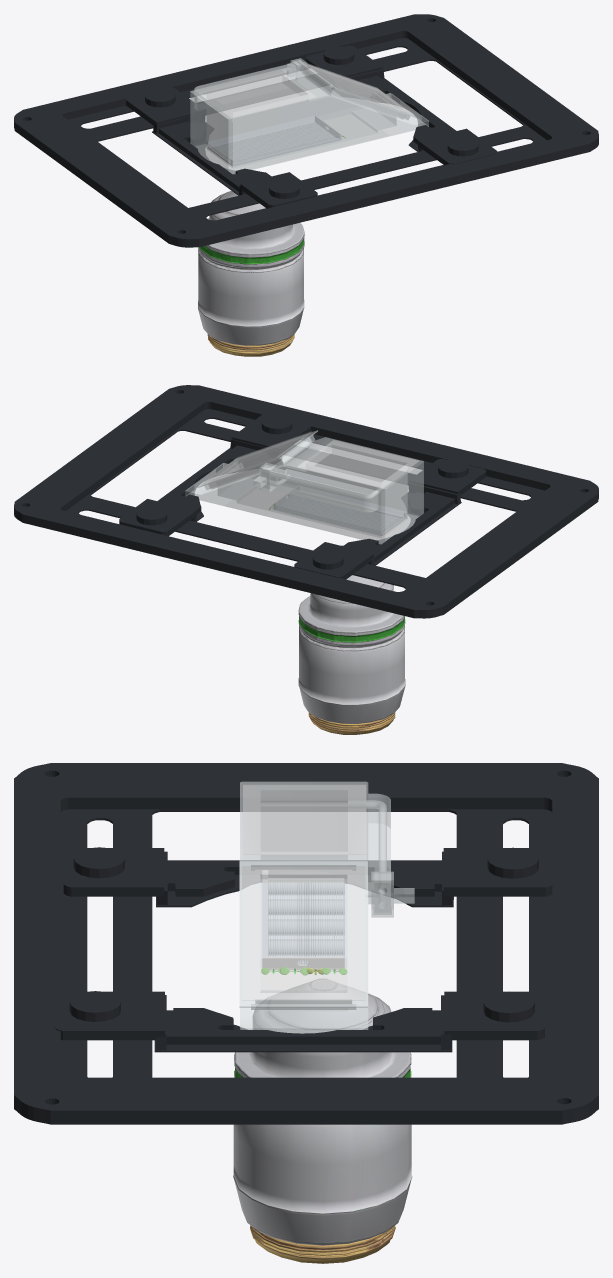
File: stage_horizontal.glb
3 renders of one model, top to bottom at view 1: azimuth 30°, elevation 25°; view 2: azimuth 150°, elevation 25°; view 3: azimuth 270°, elevation 25°, orthographic. The views are drawn at different scales.
Visible parts, largest first — view 1: main_body, 3D024mp, objective_lf, slider, slider_180, coverslip_2432, SEFAR, slider_bottom.002, coverslip_2460, slider_bottom.001, 3D024_st1_lid v2, 2ml liquid (+2 smaller); view 2: main_body, 3D024mp, objective_lf, slider, slider_180, coverslip_2432, SEFAR, slider_bottom.002, slider_bottom.001, coverslip_2460, 3D024_st1_lid v2, coverslip_2432_lid (+1 smaller); view 3: main_body, objective_lf, 3D024mp, coverslip_2432_lid, slider_180, slider, 3D024_st1_lid v2, coverslip_2432, slider_bottom.001, 2ml liquid, slider_bottom.002, SEFAR (+3 smaller).
Part boxes in pixels (left/top/right/bottom): main_body: left=14, top=14, right=598, bottom=247; 3D024mp: left=190, top=61, right=428, bottom=174; objective_lf: left=198, top=191, right=304, bottom=356; slider: left=126, top=87, right=317, bottom=208; slider_180: left=305, top=45, right=497, bottom=165; coverslip_2432: left=195, top=70, right=316, bottom=117; SEFAR: left=211, top=122, right=341, bottom=162; slider_bottom.002: left=159, top=121, right=271, bottom=191; coverslip_2460: left=197, top=115, right=388, bottom=172; slider_bottom.001: left=345, top=75, right=453, bottom=144; 3D024_st1_lid v2: left=296, top=60, right=416, bottom=120; 2ml liquid: left=207, top=116, right=339, bottom=166; main_body: left=14, top=385, right=598, bottom=618; 3D024mp: left=185, top=437, right=423, bottom=544; objective_lf: left=298, top=575, right=405, bottom=734; slider: left=294, top=459, right=485, bottom=579; slider_180: left=119, top=414, right=310, bottom=536; coverslip_2432: left=297, top=440, right=418, bottom=487; SEFAR: left=273, top=496, right=400, bottom=535; slider_bottom.002: left=343, top=492, right=454, bottom=561; slider_bottom.001: left=160, top=445, right=269, bottom=513; coverslip_2460: left=225, top=488, right=415, bottom=543; 3D024_st1_lid v2: left=198, top=430, right=317, bottom=489; coverslip_2432_lid: left=201, top=431, right=311, bottom=484; main_body: left=14, top=763, right=598, bottom=1124; objective_lf: left=233, top=979, right=412, bottom=1263; 3D024mp: left=240, top=781, right=390, bottom=1033; coverslip_2432_lid: left=242, top=867, right=364, bottom=1000; slider_180: left=55, top=991, right=544, bottom=1052; slider: left=63, top=847, right=553, bottom=907; 3D024_st1_lid v2: left=239, top=860, right=367, bottom=1009; coverslip_2432: left=243, top=785, right=365, bottom=854; slider_bottom.001: left=166, top=1008, right=440, bottom=1044; 2ml liquid: left=261, top=883, right=346, bottom=967; slider_bottom.002: left=167, top=860, right=441, bottom=896; SEFAR: left=268, top=882, right=344, bottom=970.
Bounding box in the file's own units: 160 × 90.74 × 114.
Materials: 19 (2 with a texture image).
